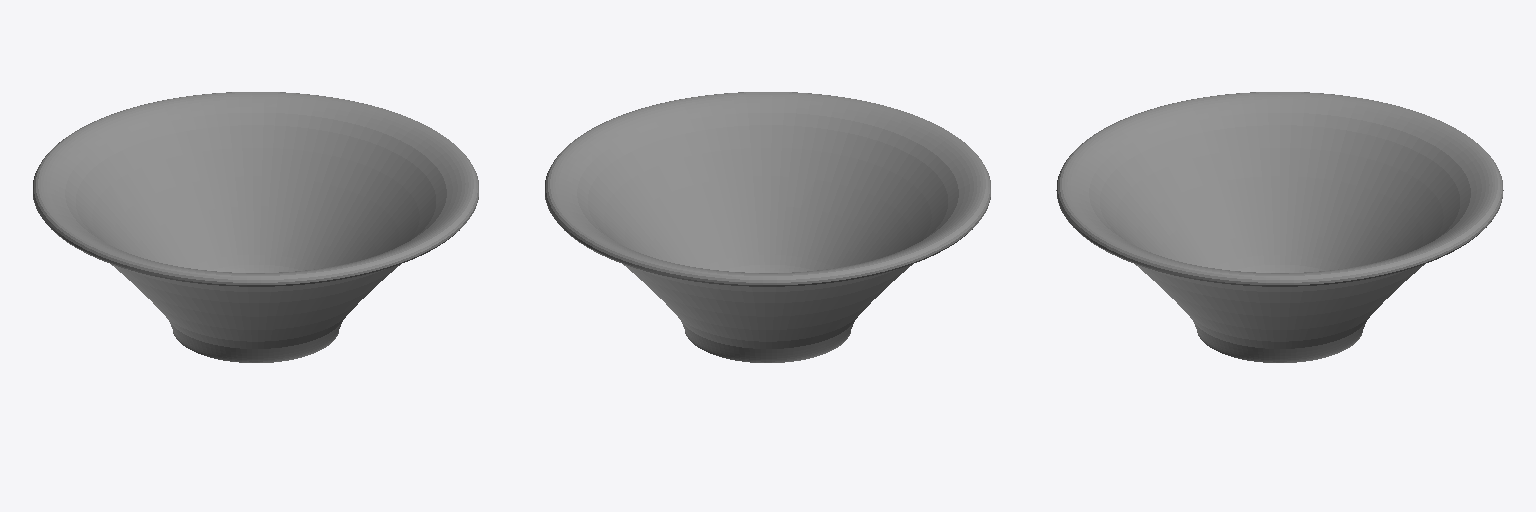
File: Food_Bowl.obj
3 renders of one model, left to right at view 1: azimuth 30°, elevation 25°; view 2: azimuth 150°, elevation 25°; view 3: azimuth 270°, elevation 25°, orthographic.
Parts seen in each view (by area): view 1: Line001; view 2: Line001; view 3: Line001.
Boxes of the visible parts, <box> form: Line001: <box>33,92,478,362</box>; Line001: <box>545,92,990,362</box>; Line001: <box>1056,92,1503,362</box>.
Size of the model in its own units: 6.59 by 2.34 by 6.59.